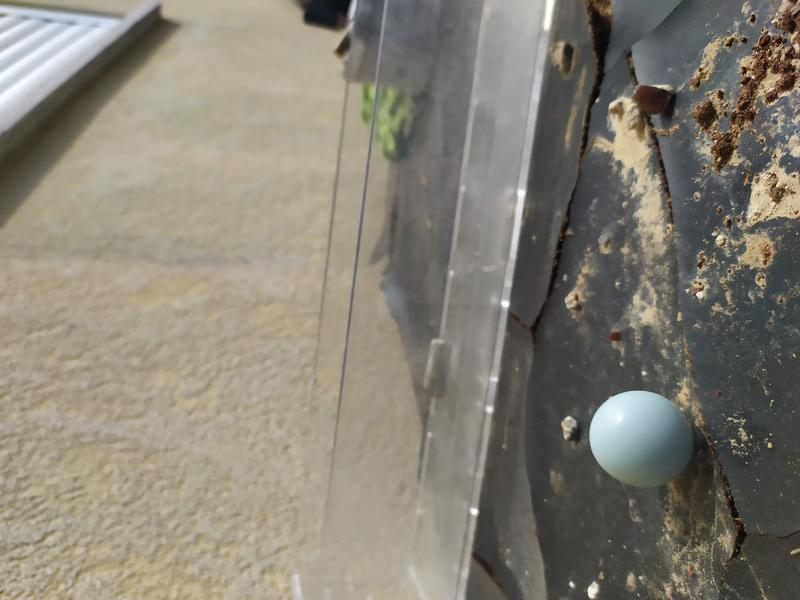Warning: (586, 387, 699, 491)
